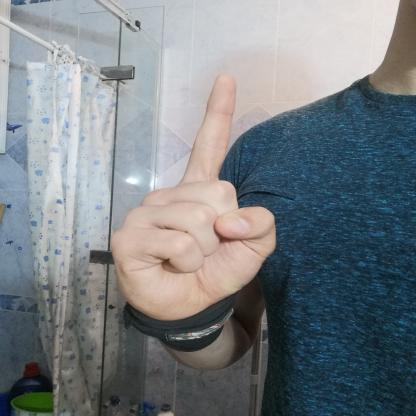BAA: (99, 67, 288, 332)
